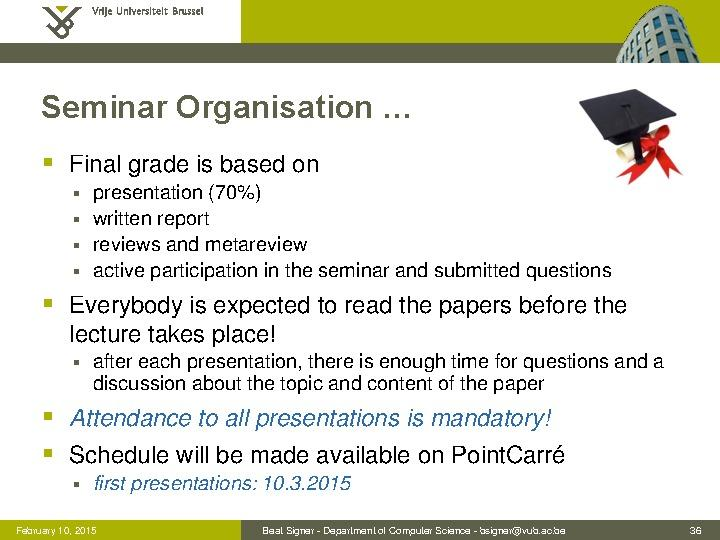paragraph: (25, 139, 689, 518)
title: (35, 84, 421, 131)
